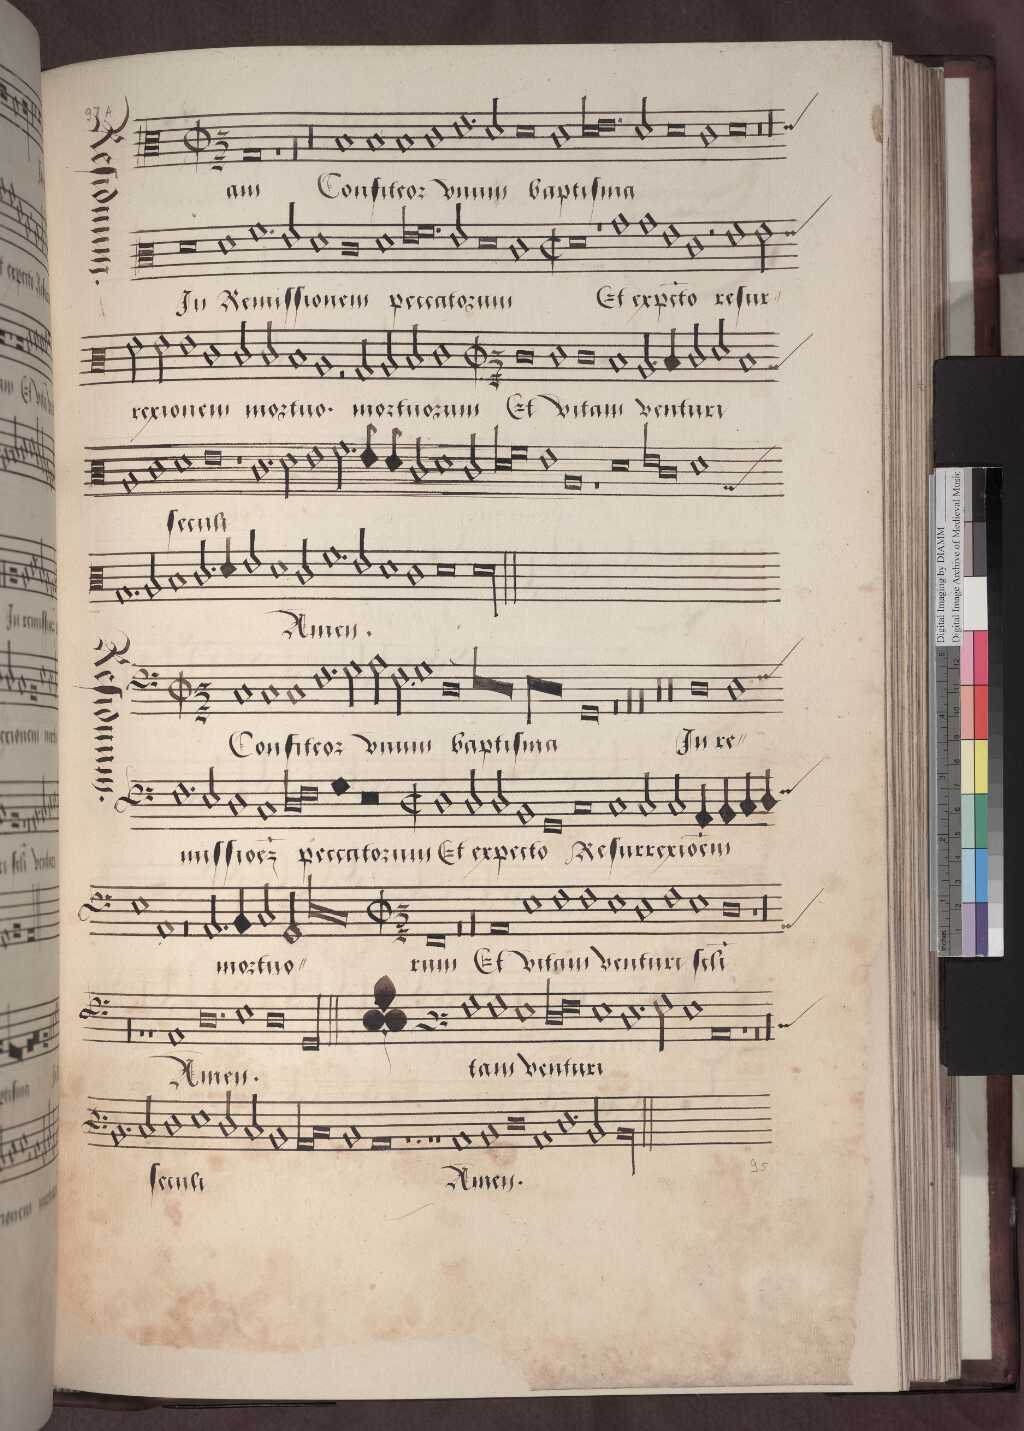2: (185, 703, 214, 732)
3: (192, 672, 226, 706)
Pmincut: (163, 658, 196, 723)
breve rest: (607, 656, 623, 733)
breve_11: (572, 693, 605, 733)
breve_7: (684, 669, 715, 708), (436, 674, 465, 707)
custos_5: (752, 655, 779, 691)
f clef_5: (122, 653, 162, 701)
longa rest: (663, 652, 679, 725), (651, 652, 666, 725), (634, 660, 648, 724), (621, 660, 635, 720)
minim_3: (366, 644, 388, 711)
minim_4: (340, 650, 363, 715)
minim_5: (387, 653, 410, 724)
o1colored breve_6: (522, 660, 543, 733)
o1colored semibreve_6: (468, 642, 491, 713)
o2colored breve_7: (543, 660, 565, 733)
o2colored semibreve_7: (491, 642, 515, 713)
point: (325, 660, 342, 681), (406, 675, 420, 692)
semibreve_4: (412, 651, 436, 688)
semibreve_5: (310, 656, 335, 699)
semibreve_7: (721, 664, 750, 712)
semibreve_8: (281, 672, 308, 714), (231, 673, 257, 713), (258, 673, 284, 712)
